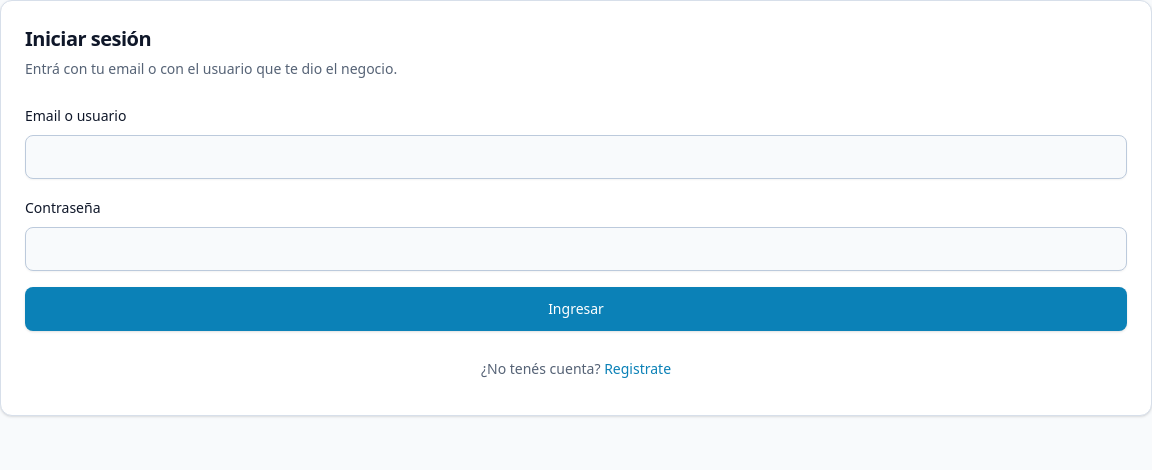
Scenario: login → dashboard › credenciales inválidas se muestran y no navega
The image size is (1152, 470).
In the field labelled "Email o usuario": point(576, 157) [25,135,1127,179], type "a@b.com"
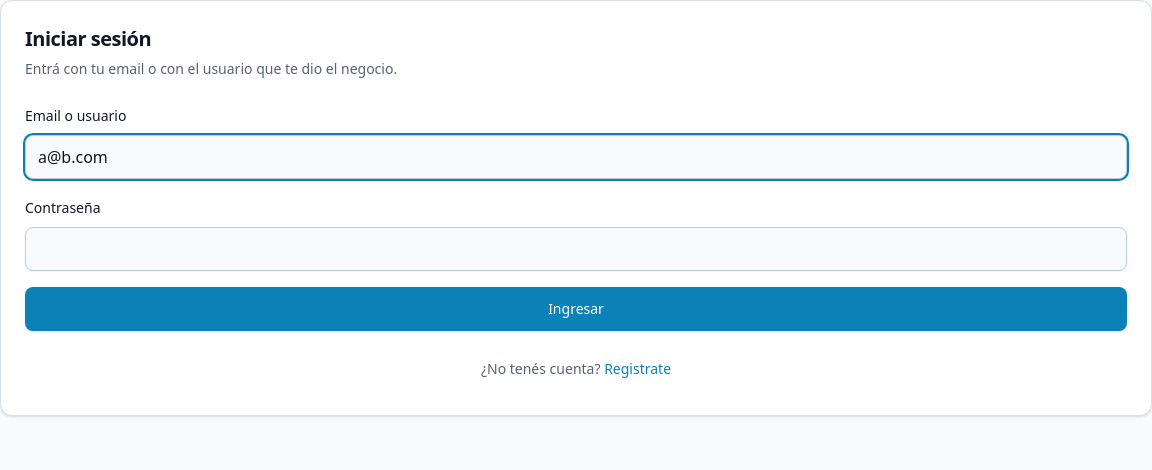
In the password field labelled "Contraseña": point(576, 249) [25,227,1127,271], type "secreto123"
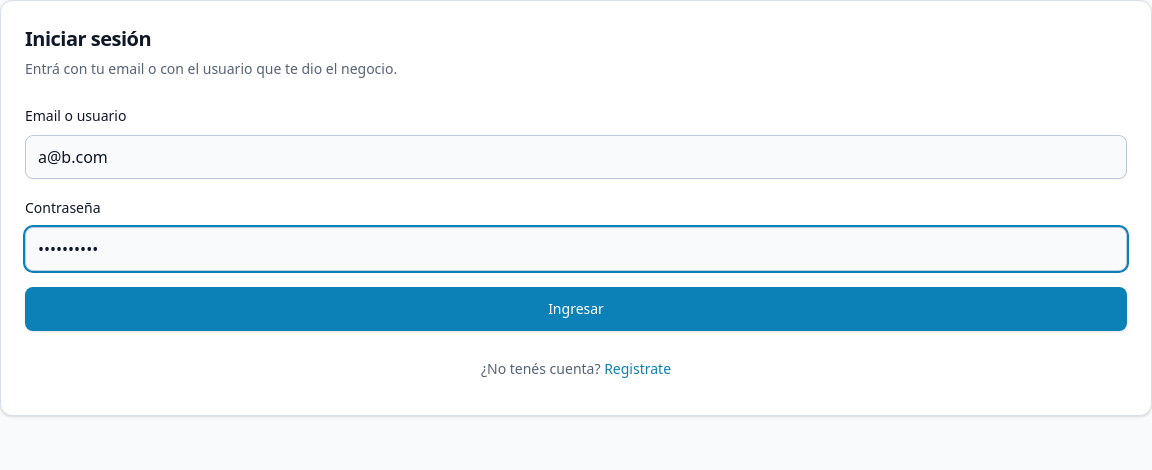
Click the button "Ingresar": point(576, 309) [25,287,1127,331]
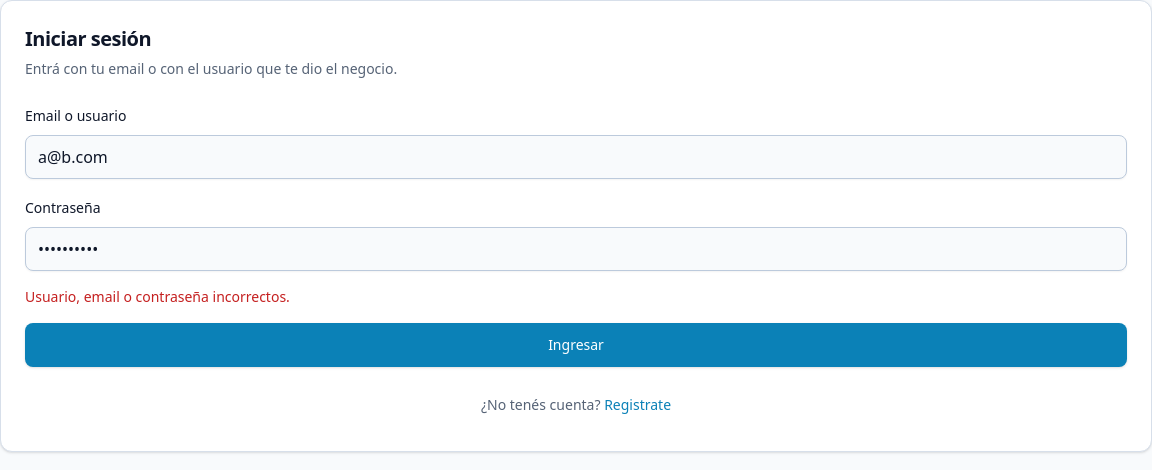
Expected: the message shows "incorrectos", [25,287,290,306]
